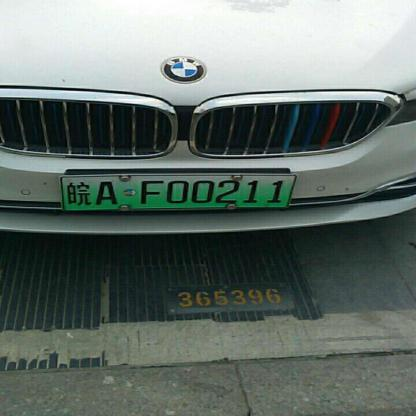lp: (61, 176, 294, 210)
